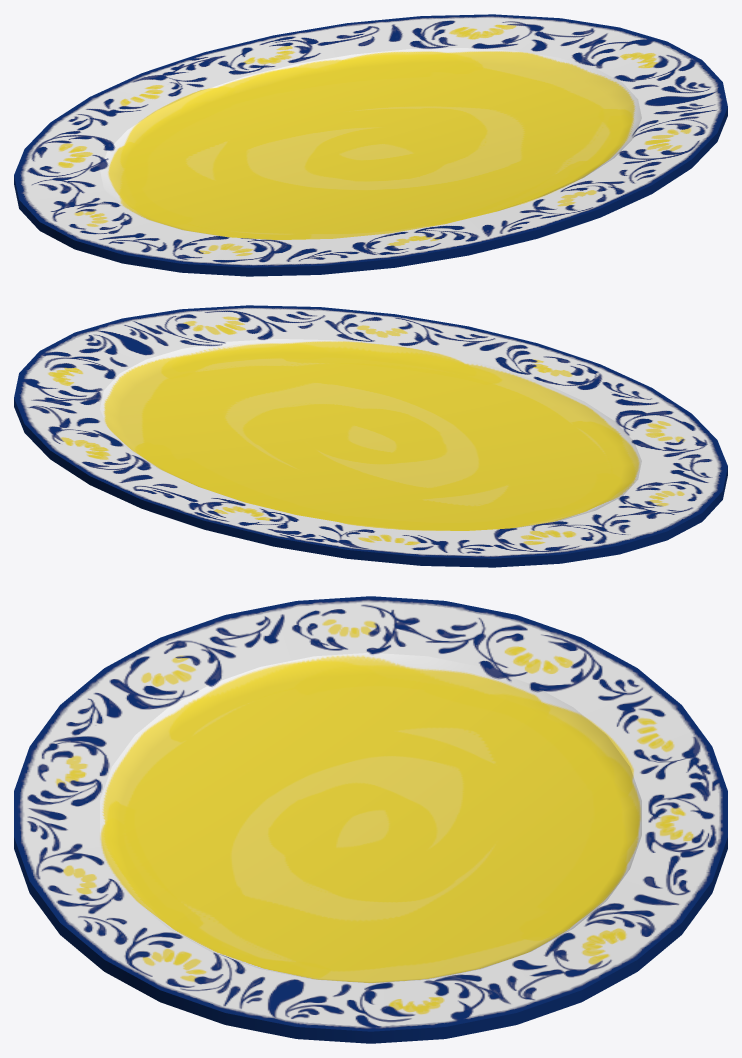
The model's file is Plate_02_Textured.fbx.
3 views of the same model, one above another, from view 1: azimuth 30°, elevation 25°; view 2: azimuth 150°, elevation 25°; view 3: azimuth 270°, elevation 25° (orthographic). The views are drawn at different scales.
Parts seen in each view (by area): view 1: plate_02; view 2: plate_02; view 3: plate_02.
Part boxes in pixels (x1,y1,x2,y2): plate_02: [14, 14, 727, 276]; plate_02: [14, 305, 727, 567]; plate_02: [14, 596, 727, 1043].
Bounding box in the file's own units: 242 × 9.03 × 168.
Materials: 1 (1 with a texture image).
